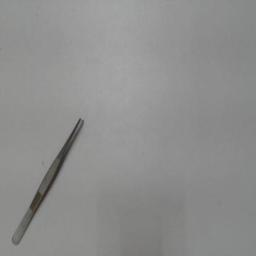Gillies Toothed Dissector: (8, 115, 88, 251)
